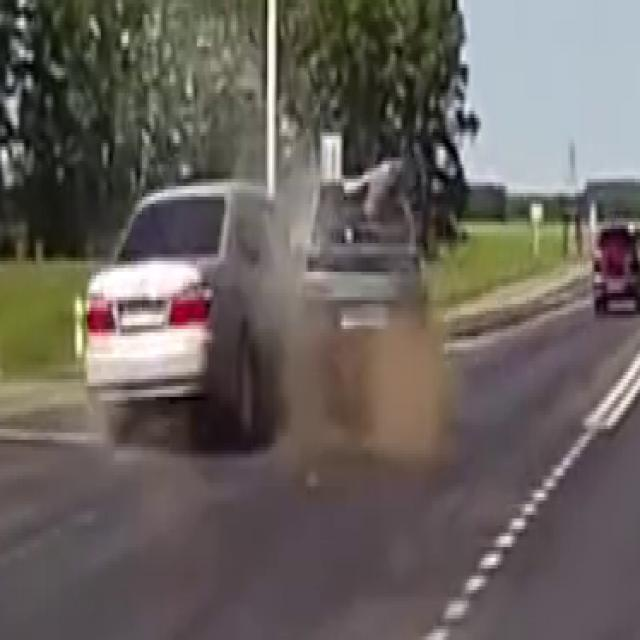accident: (111, 155, 426, 445)
